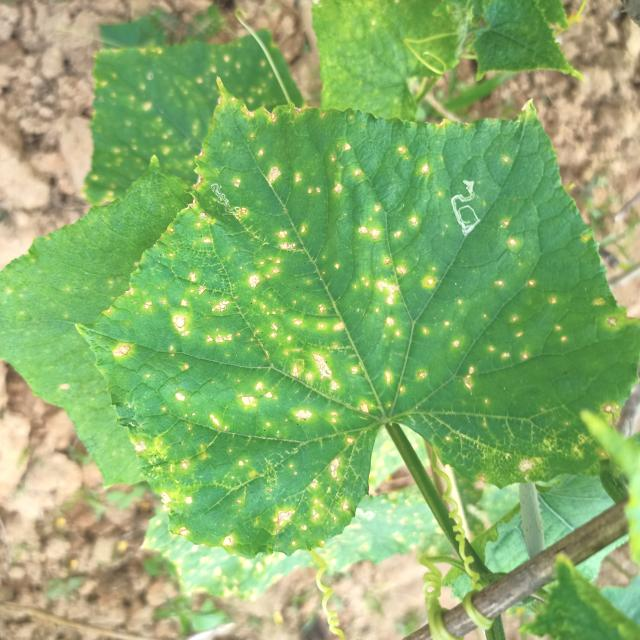disease_cucumber: (137, 109, 561, 545)
